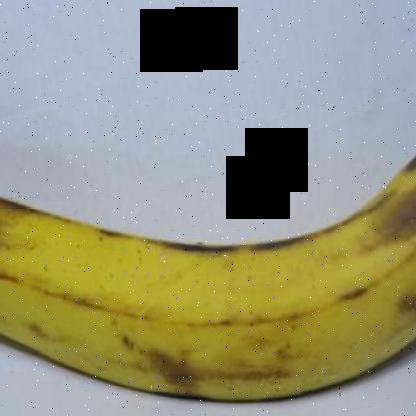ripe: (0, 128, 415, 415)
